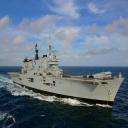Portanaves: (7, 36, 127, 110)
